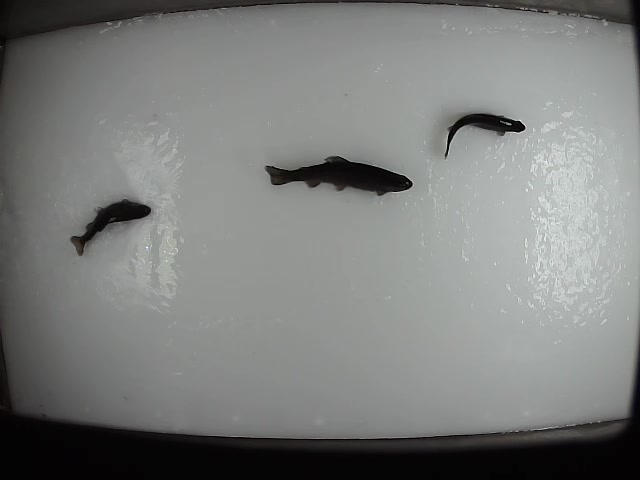Fish: (265, 155, 413, 196), (70, 199, 151, 256), (445, 114, 525, 159)
